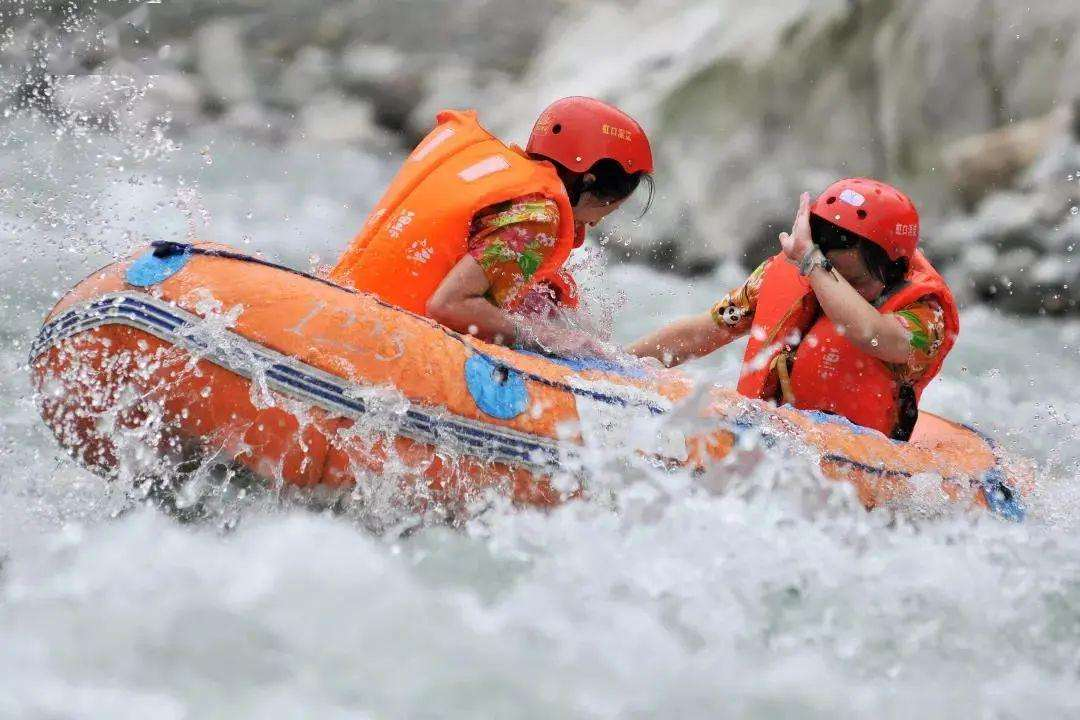reflective_clothes: (320, 98, 575, 352), (737, 217, 952, 453)
